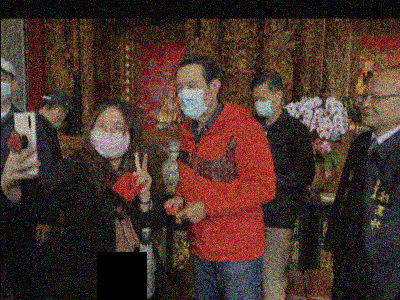with_mask: (87, 116, 130, 160), (172, 78, 211, 118), (250, 91, 278, 118), (49, 110, 66, 128), (0, 74, 11, 101)
without_mask: (359, 86, 394, 127)
